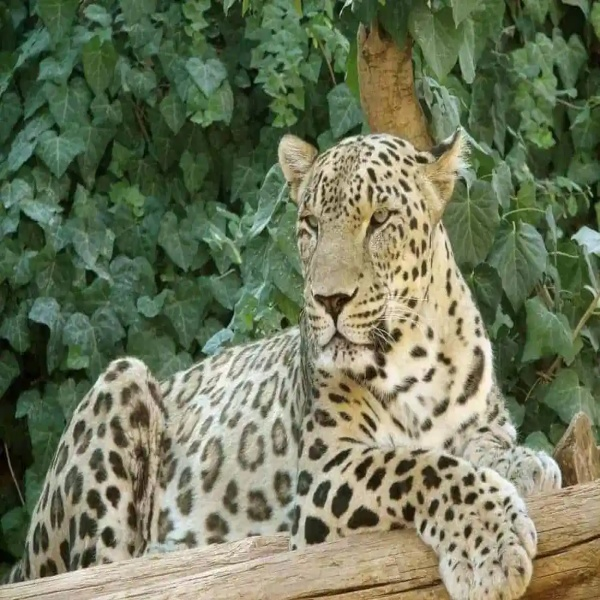Leopard: (6, 125, 567, 600)
